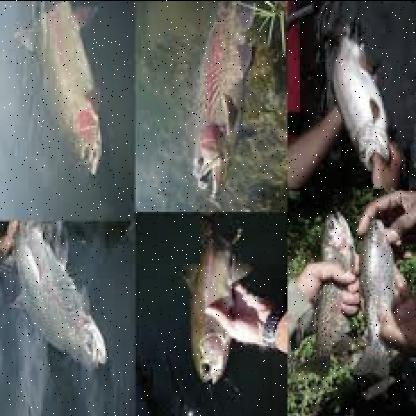fish: (14, 2, 102, 178), (8, 216, 104, 370), (326, 20, 390, 174), (185, 227, 241, 395), (353, 215, 398, 377), (316, 210, 352, 394)
